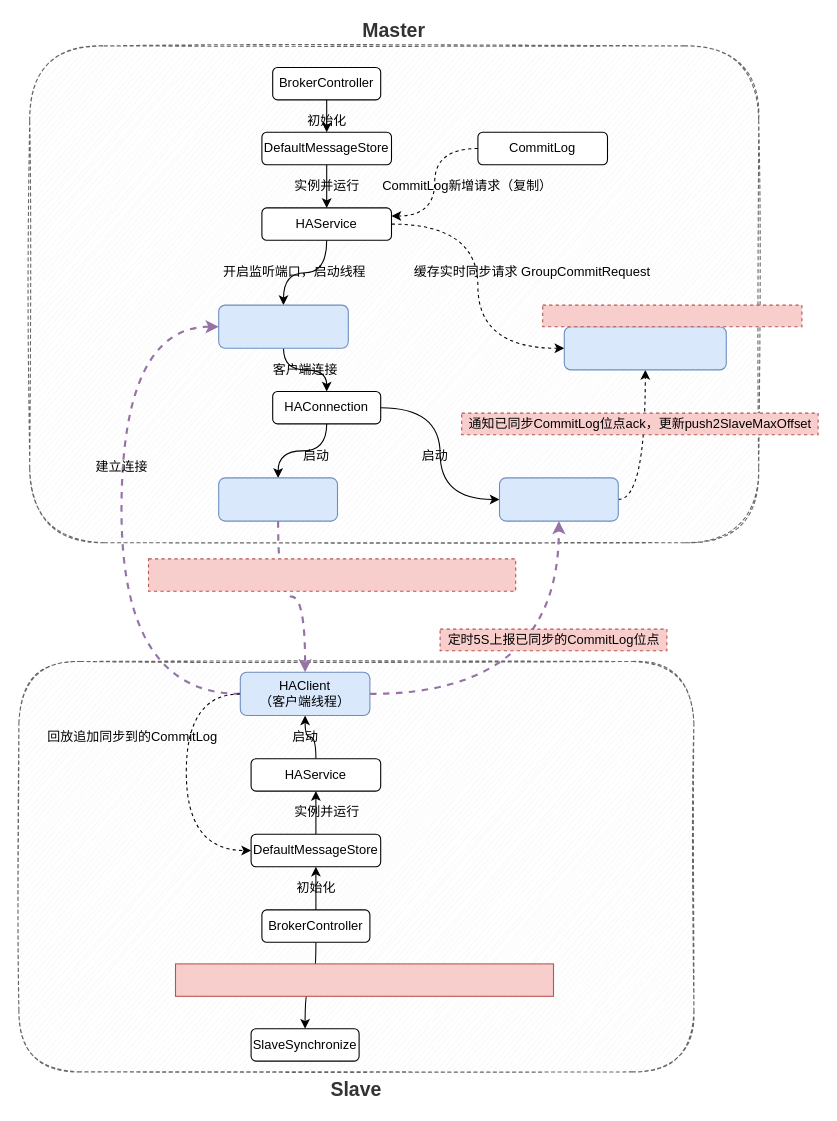
Image size: 837x1121. Some labels were removed from this diagram. The centre of each missing label's shape, as x and y in pixels:
1. 首次收到同步请求后，持续发送CommitLog数据，最大32K 2. 超过5s没有发送过数据，主动发送心跳: the point at 331,574
AcceptSocketService （服务端线程）: the point at 283,326
GroupTransferService （主从同步通知线程）: the point at 644,348
ReadSocketService （读线程）: the point at 558,499
WriteSocketService （写线程）: the point at 278,499
判断 push2SlaveMaxOffset 是否同步成功: the point at 672,315
启动时，定时从Master同步配置 包括Topic、ConsumerOffset、DelayOffset、SubscriptionGroup: the point at 364,979
